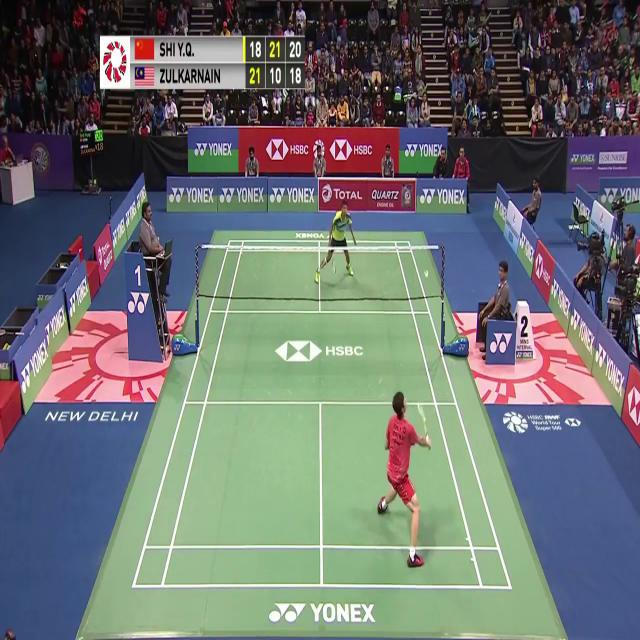Shuttlecock: (423, 266, 429, 278)
